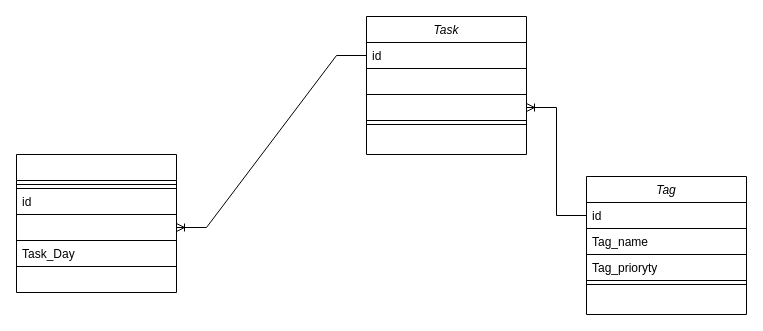
This 763x331 diagram has some shape labels left out. Here are the shapes that lost their labels. From the top down, the box of each, then its label:
(366, 68, 526, 94): Task_Name
(366, 94, 526, 120): Task_Tags
(16, 154, 176, 292): Task_Days
(16, 214, 176, 240): Task_id
